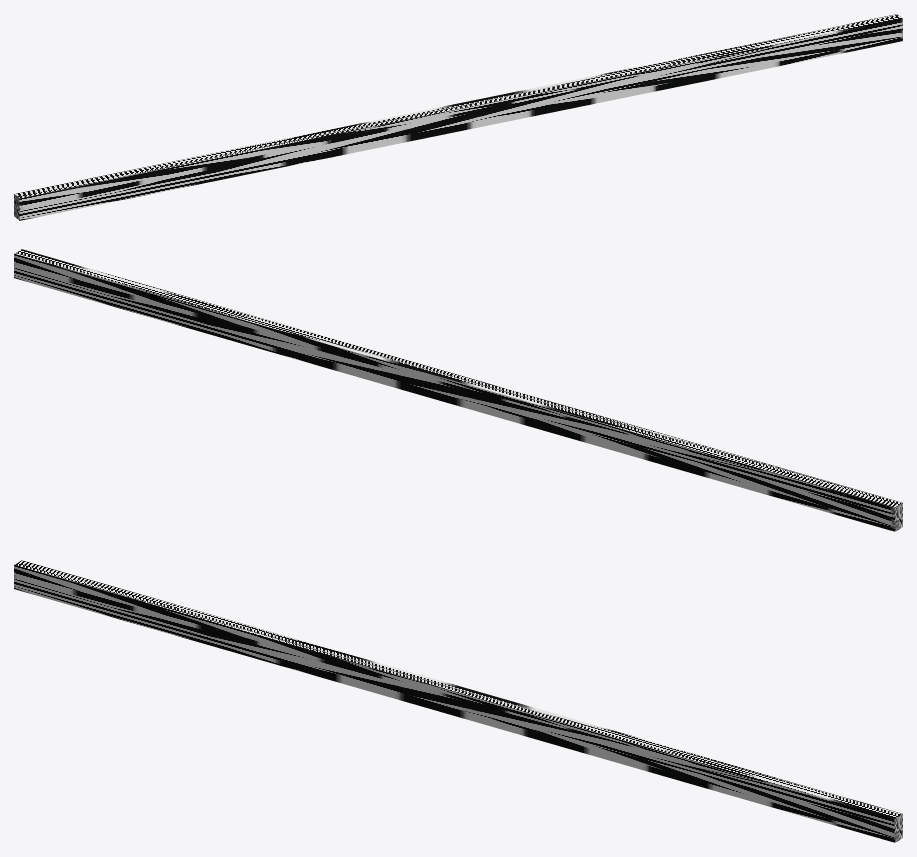
The model's file is beam.glb.
3 renders of one model, top to bottom at view 1: azimuth 30°, elevation 25°; view 2: azimuth 150°, elevation 25°; view 3: azimuth 330°, elevation 25°, orthographic. The views are drawn at different scales.
Visible parts, largest first — view 1: beam; view 2: beam; view 3: beam.
Boxes of the visible parts, bbox=[...] form: beam: bbox=[14, 14, 902, 220]; beam: bbox=[14, 249, 902, 531]; beam: bbox=[14, 560, 902, 842].
Bounding box in the file's own units: 22.6 × 0.5648 × 1.98.
1 material, 1 textured.
